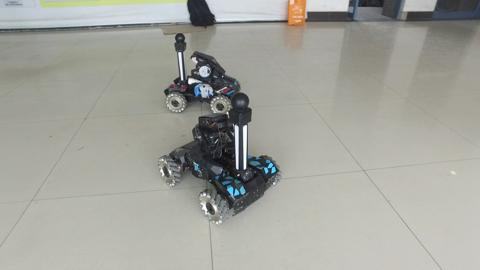chariot: (156, 112, 280, 230), (165, 34, 241, 112)
